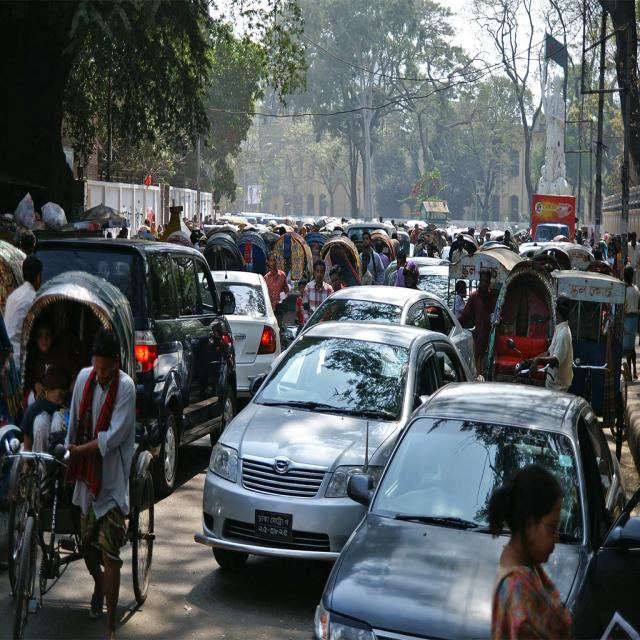car: (313, 384, 616, 639), (196, 342, 452, 542)
rickshaw: (5, 286, 138, 608), (486, 264, 559, 375)
